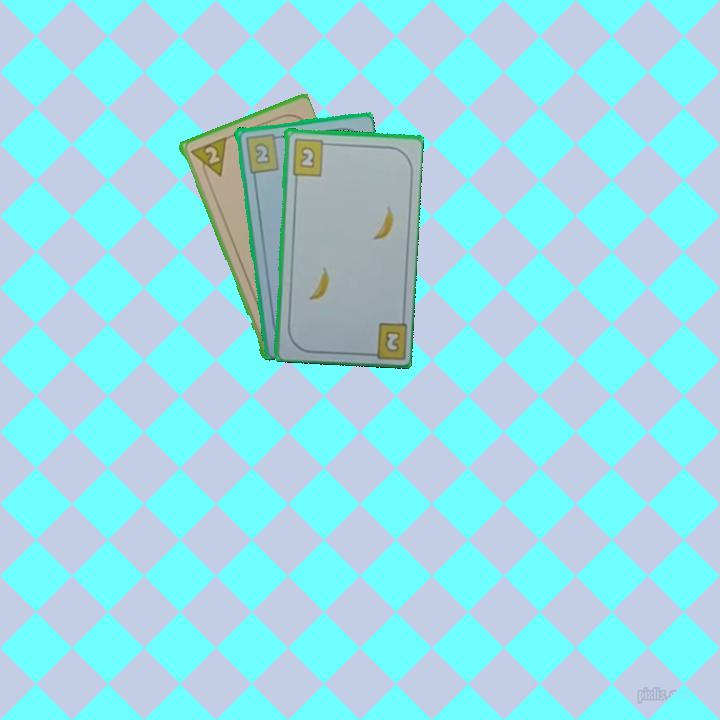2b: (288, 135, 332, 178), (242, 130, 284, 175), (381, 327, 403, 355)
2p: (186, 134, 229, 183)
